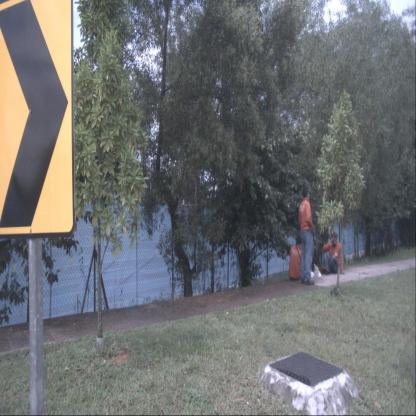human-pedestrian-adult: (299, 186, 315, 285), (322, 232, 344, 276), (288, 235, 306, 281)
